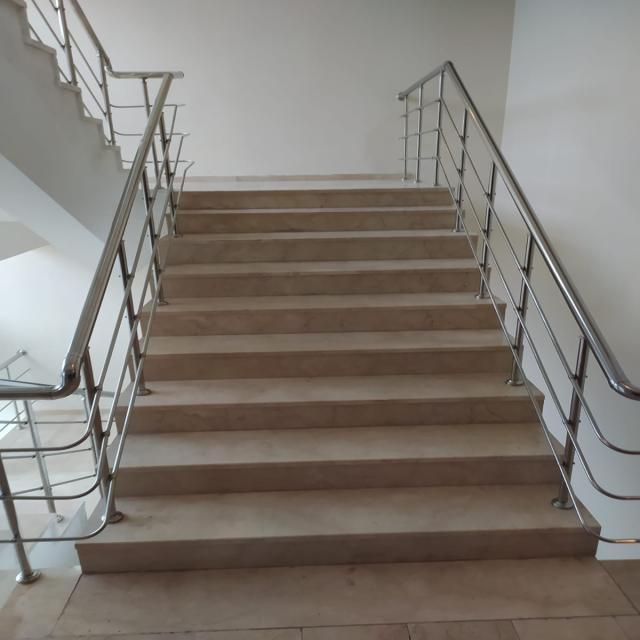stair: (114, 192, 607, 564)
